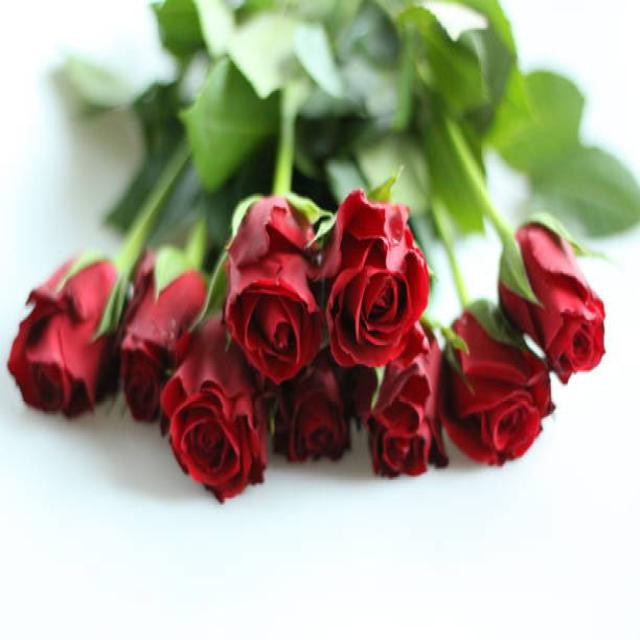paper: (12, 186, 620, 496), (241, 184, 350, 403), (332, 184, 426, 352)
